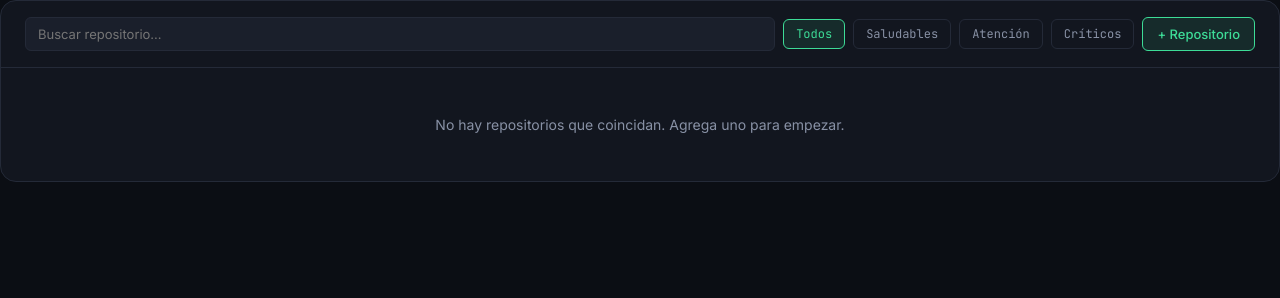
it: RepositoryList - add repository error handling › shows the error message when adding a repository fails
Click the button "+ Repositorio" at {"x": 1199, "y": 34}, box [1142, 17, 1255, 51]
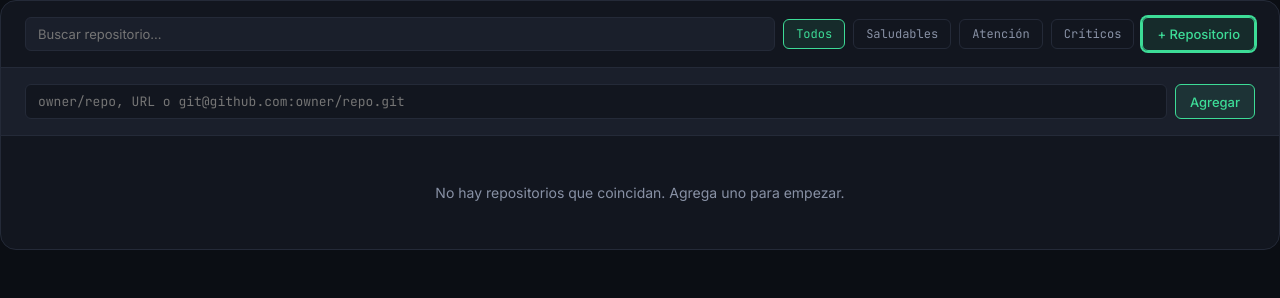
Type "acme/widgets" into the field with placeholder "owner/repo, URL o git@github.com:owner/repo.git" at {"x": 596, "y": 102}, box [25, 84, 1167, 119]
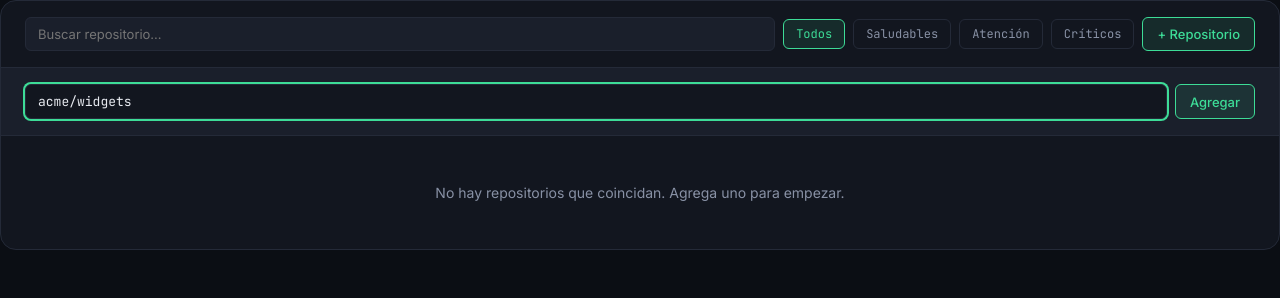
Click the button "Agregar" at {"x": 1215, "y": 102}, box [1175, 84, 1255, 119]
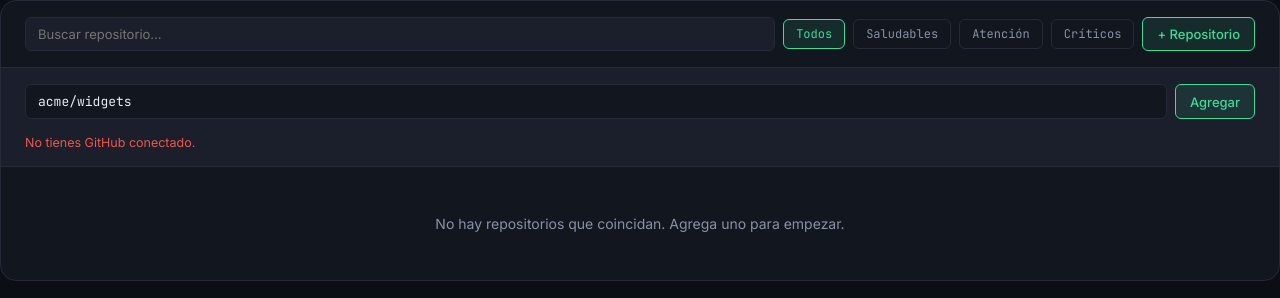
Expected: the text "No tienes GitHub conectado." is shown, [25, 135, 195, 150]
